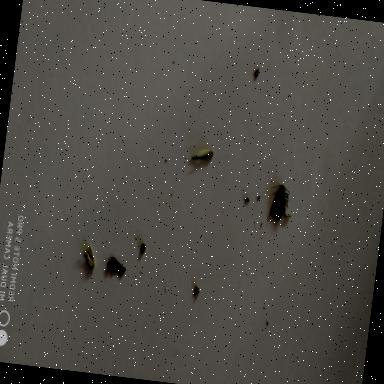pbw: (188, 144, 215, 164), (80, 241, 98, 270)
